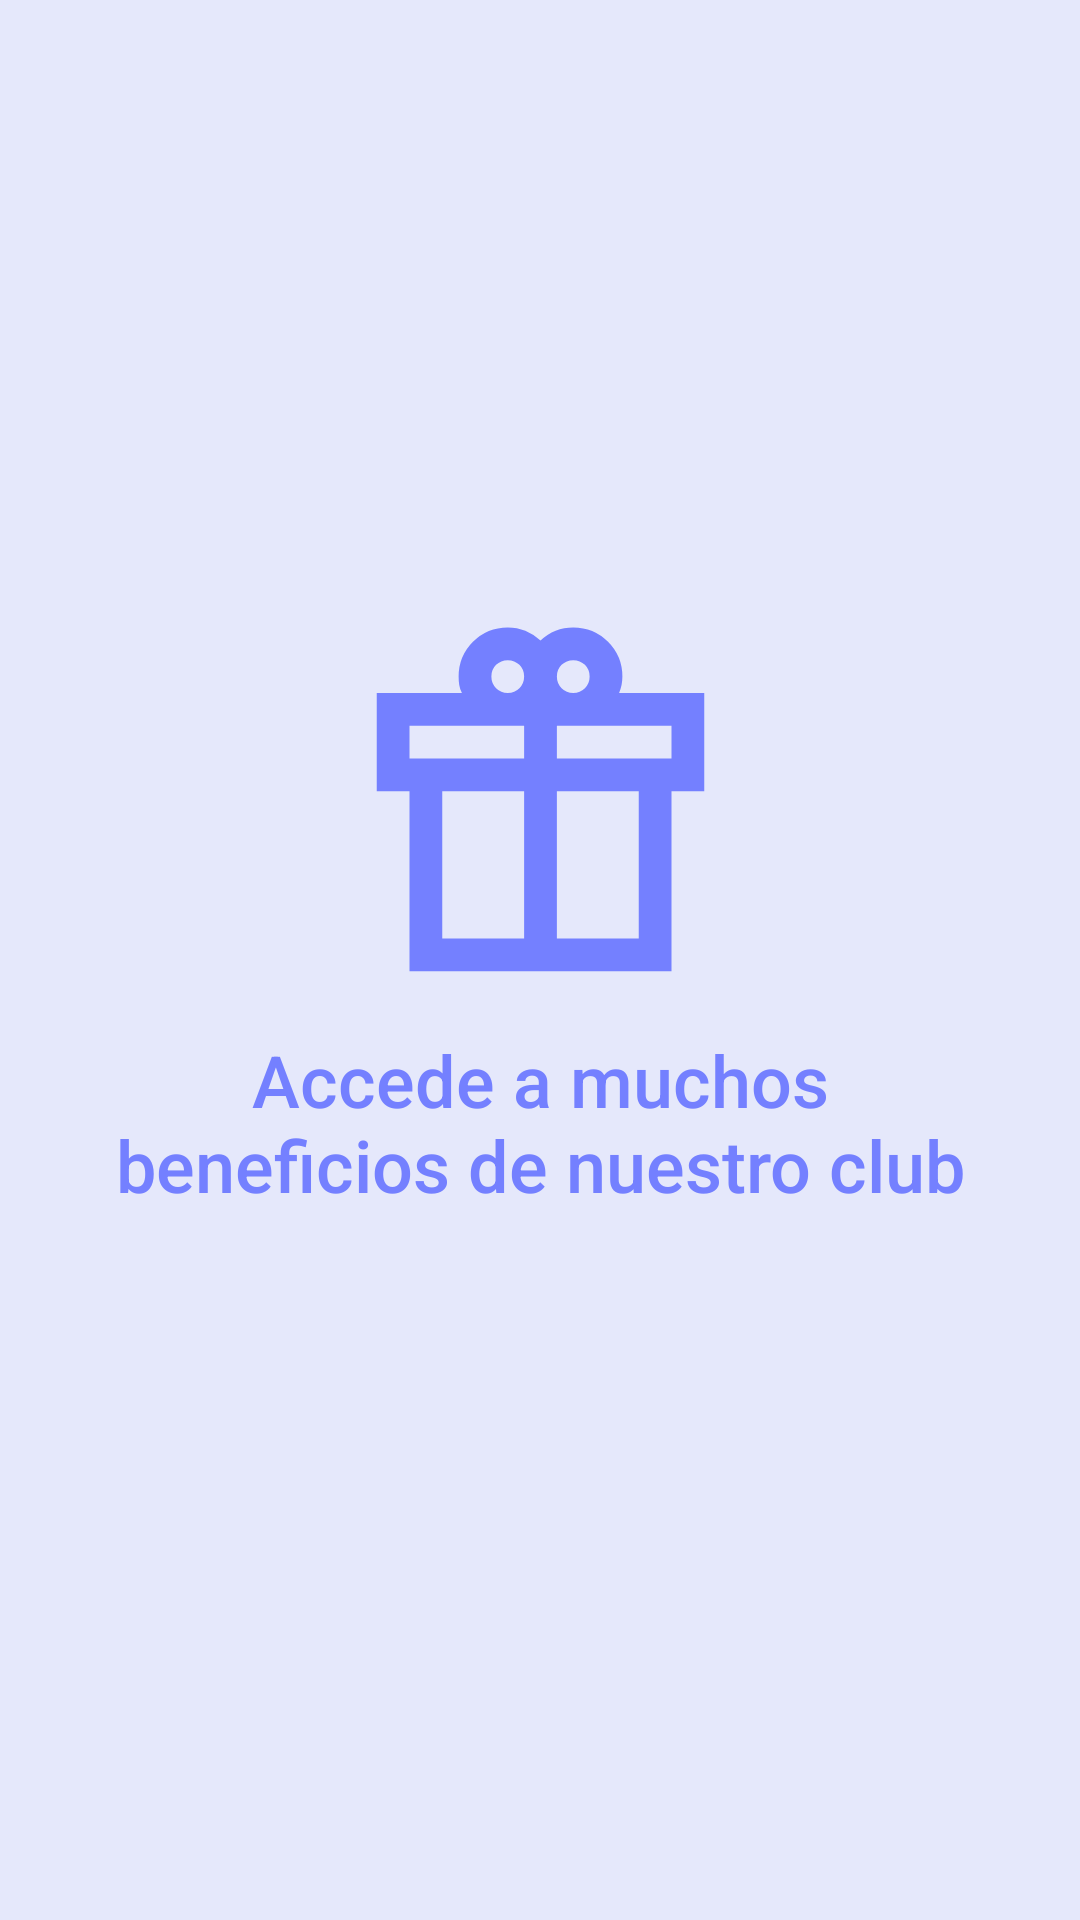

Named icons in this screenshot (1080px x 1920px) and their bounding boxes, (x1, y1, x2, y2):
gift: (376, 627, 705, 972)
